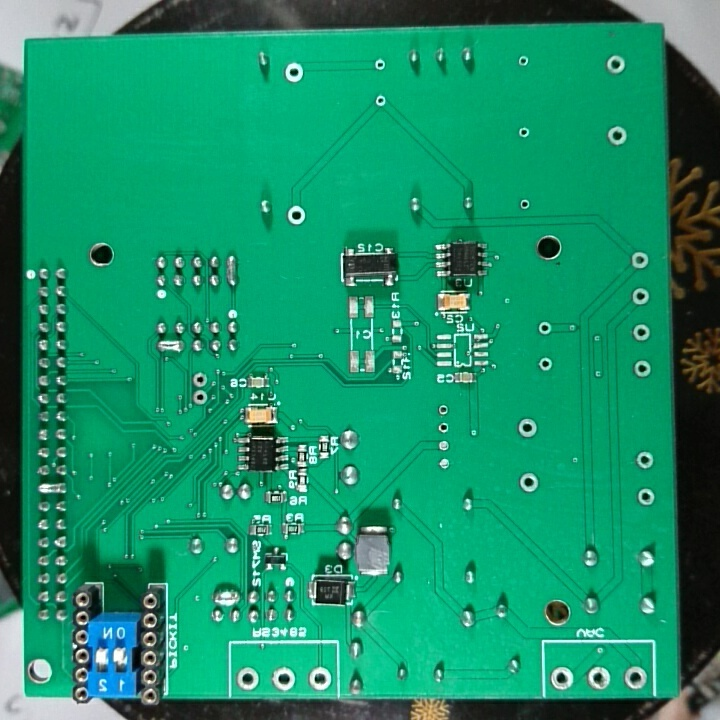F: (549, 663, 577, 694), (305, 664, 334, 692), (621, 662, 648, 692), (234, 664, 262, 692), (268, 666, 298, 692), (586, 664, 614, 691), (629, 283, 654, 309), (634, 485, 658, 512), (602, 52, 630, 75), (282, 60, 306, 86), (605, 123, 628, 150), (517, 471, 541, 496), (283, 205, 308, 228), (631, 358, 654, 383), (634, 447, 657, 472), (515, 416, 539, 439), (629, 247, 651, 272), (535, 355, 559, 376), (191, 386, 211, 410), (630, 321, 651, 343), (535, 318, 554, 341), (190, 369, 211, 389), (436, 453, 454, 473), (436, 436, 454, 454), (516, 53, 532, 72), (371, 93, 388, 110), (434, 401, 451, 418), (517, 195, 533, 212), (373, 55, 388, 72), (516, 124, 531, 140), (437, 420, 451, 436)
P: (208, 584, 242, 608), (225, 252, 242, 292), (153, 336, 184, 355), (35, 480, 70, 495)
